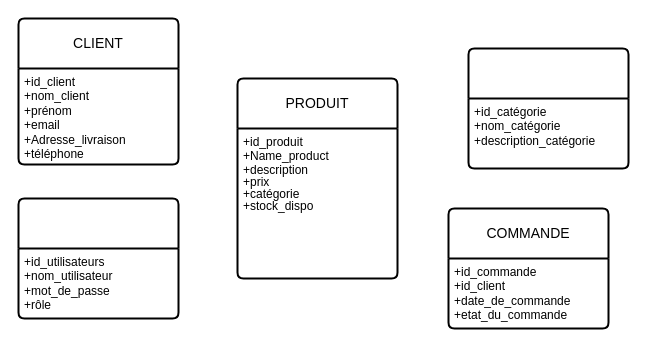
Image size: 646x346. Some labels were removed from this diagram. Each missing label, with the box of its shape:
CATEGORIE: (467, 47, 629, 169)
Utilisateur/Administrateur: (17, 197, 179, 319)
